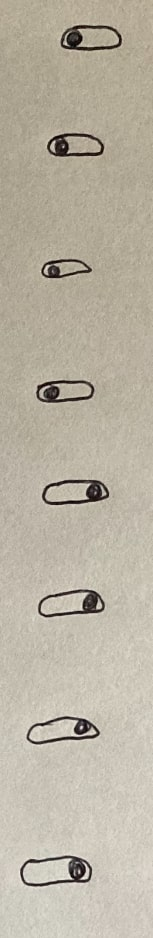switch: (27, 708, 105, 753), (16, 854, 94, 891), (35, 584, 112, 621), (39, 473, 114, 509), (43, 126, 109, 164), (59, 22, 128, 56), (33, 375, 101, 409), (39, 253, 99, 285)
